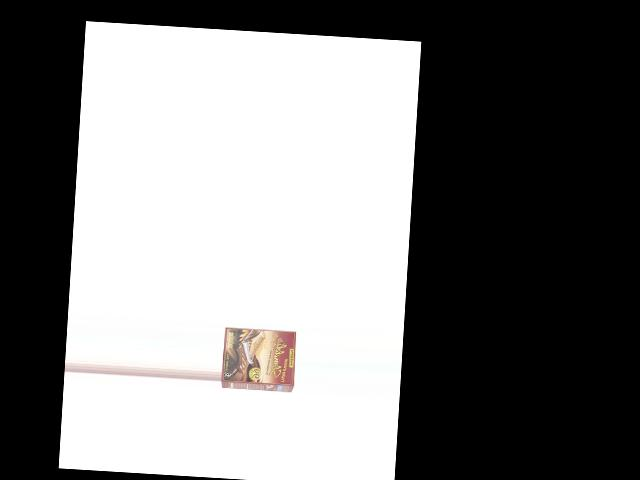chocolate: (220, 320, 298, 396)
